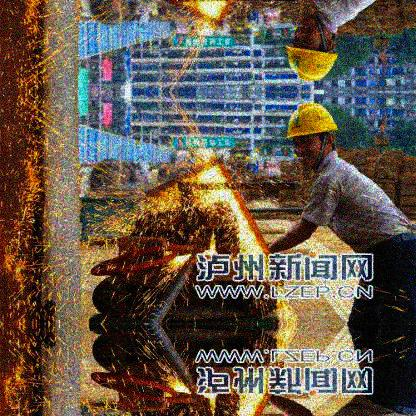helmet: (285, 103, 341, 171), (286, 12, 340, 81)
